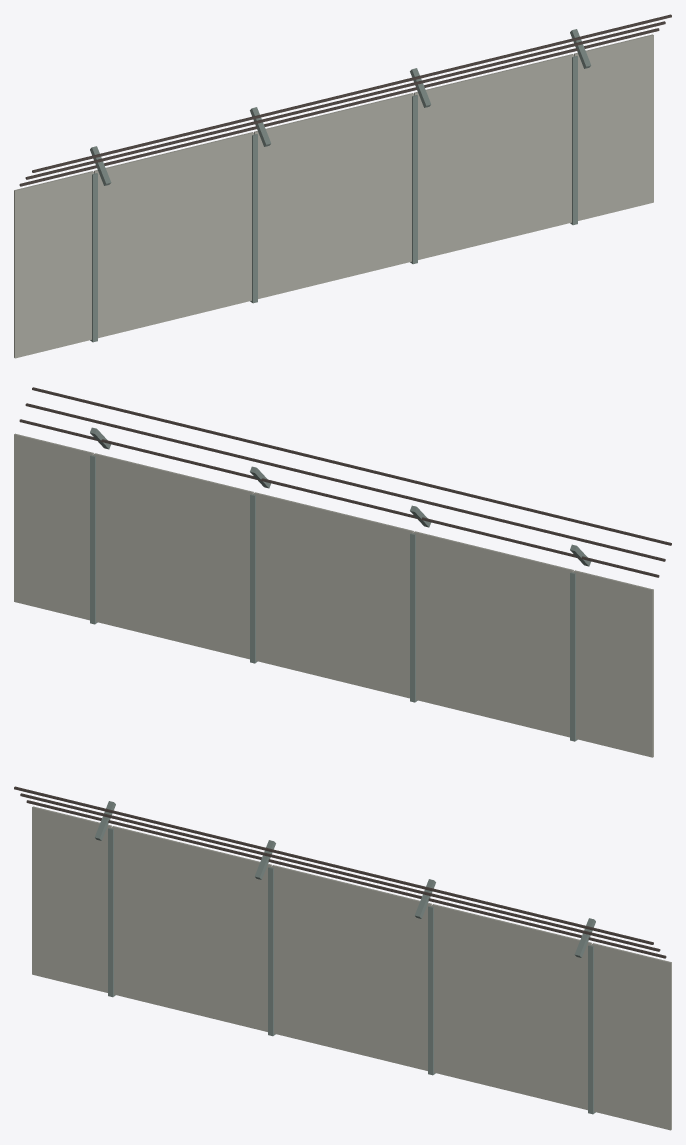
File: SM_VallaBase_v0_LOD0.fbx
3 views of the same model, one above another, from view 1: azimuth 30°, elevation 25°; view 2: azimuth 150°, elevation 25°; view 3: azimuth 330°, elevation 25° (orthographic).
Parts seen in each view (by area): view 1: SM_valla_base_v0_LOD0; view 2: SM_valla_base_v0_LOD0; view 3: SM_valla_base_v0_LOD0.
Boxes of the visible parts, <box> form: SM_valla_base_v0_LOD0: <box>14,14,671,358</box>; SM_valla_base_v0_LOD0: <box>14,387,671,757</box>; SM_valla_base_v0_LOD0: <box>14,786,671,1130</box>.
Bounding box in the file's own units: 9.98 × 3.03 × 0.5477.
